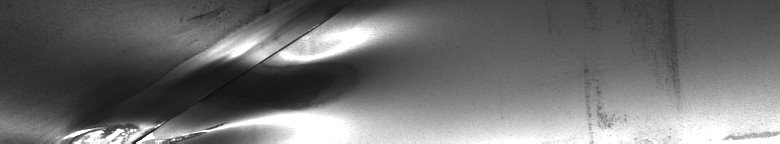ke: (67, 8, 375, 136)
